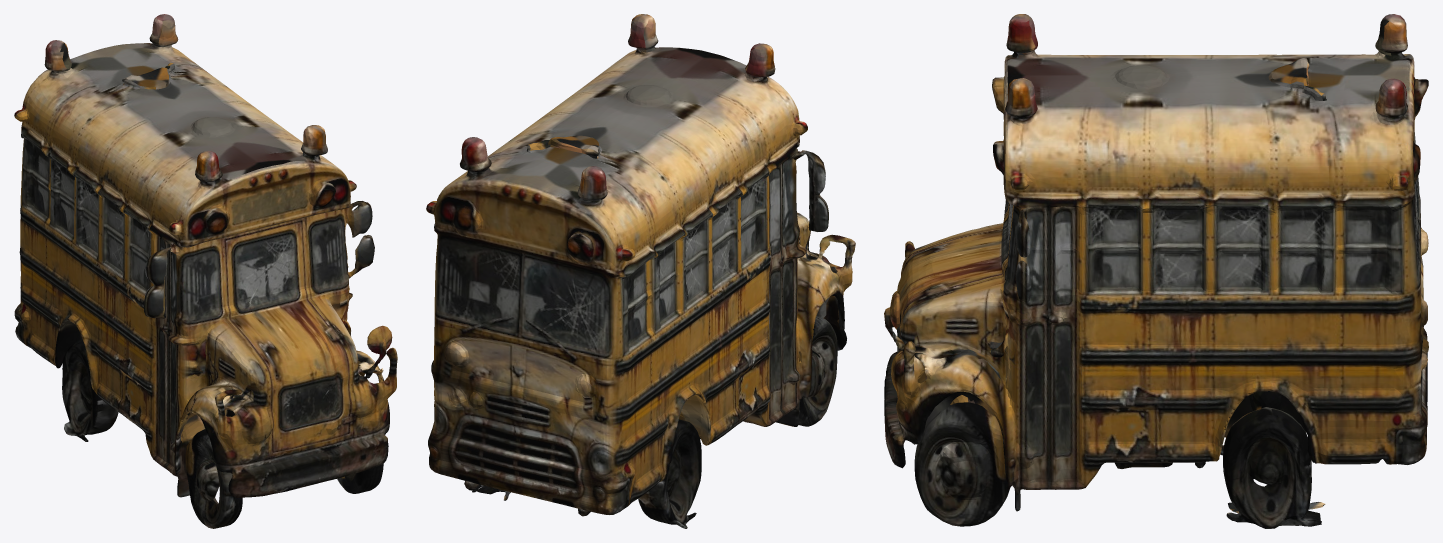
The model's file is school_bus.glb.
3 renders of one model, left to right at view 1: azimuth 30°, elevation 25°; view 2: azimuth 150°, elevation 25°; view 3: azimuth 270°, elevation 25°, orthographic. The views are drawn at different scales.
Parts seen in each view (by area): view 1: geometry_0; view 2: geometry_0; view 3: geometry_0.
Boxes of the visible parts, bbox=[...] form: geometry_0: bbox=[14, 14, 397, 528]; geometry_0: bbox=[426, 14, 855, 528]; geometry_0: bbox=[884, 14, 1428, 528].
Bounding box in the file's own units: 4.08 × 5.96 × 6.8.
1 material, 1 textured.
